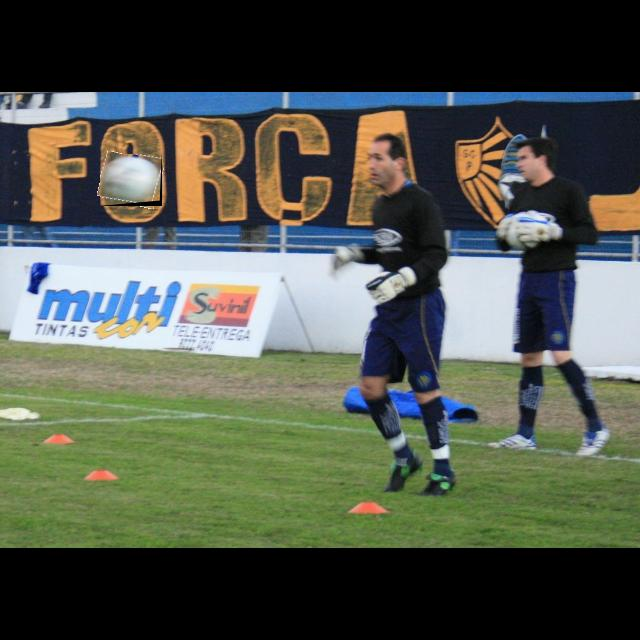Football: (100, 154, 162, 206)
